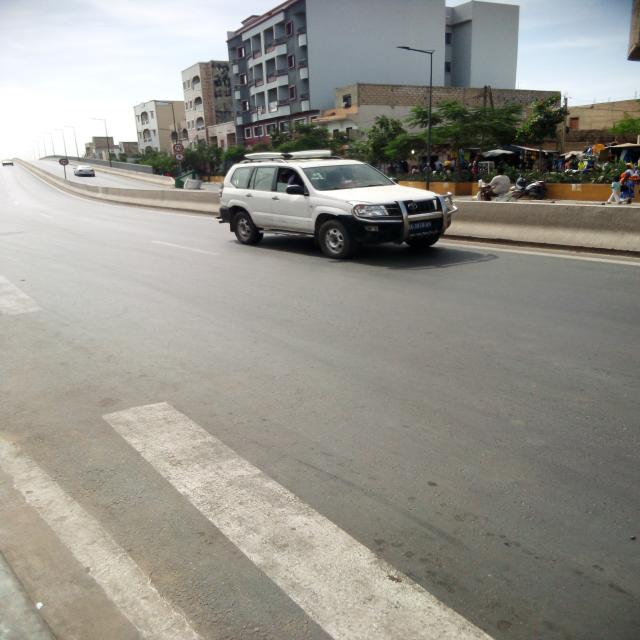moto: (516, 176, 548, 201), (493, 187, 521, 204)
particulier: (221, 151, 458, 260), (74, 166, 96, 179)
taxi: (3, 161, 14, 167)
